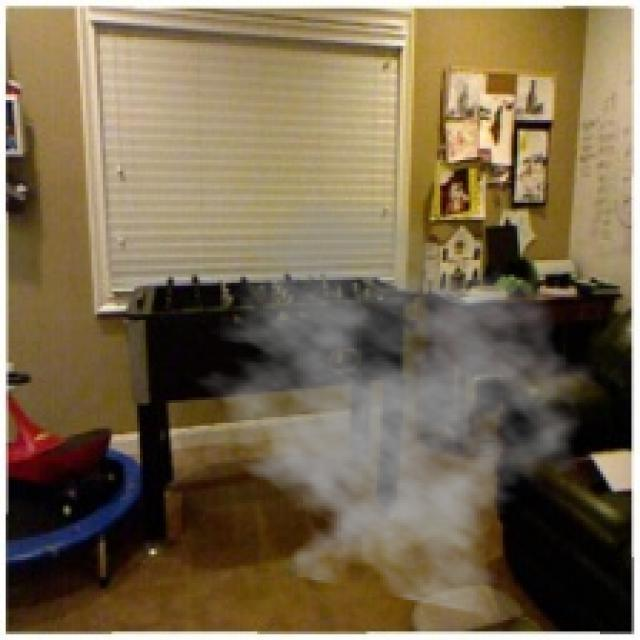Smoke: (177, 194, 600, 617)
